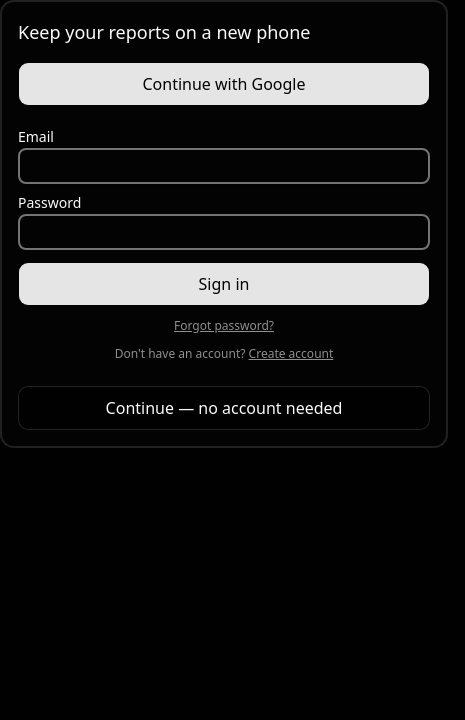
Test: SignInPanel › password sign-in › refuses a partial mobile number before any account is made
This screenshot has width=465, height=720.
Click the button "Create account" at (291,354), box [249,346,333,362]
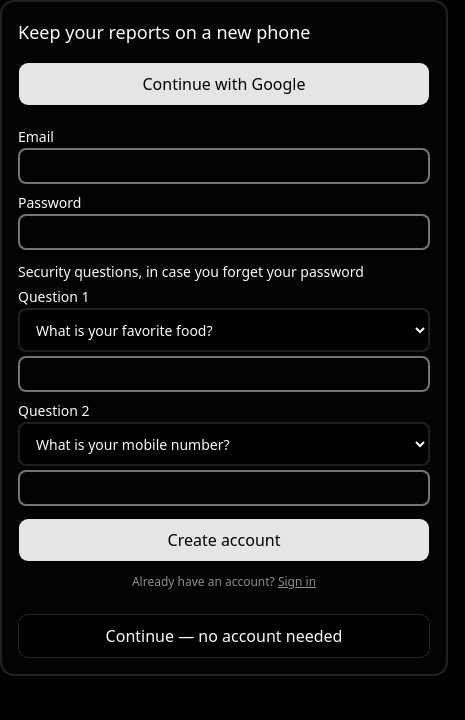
Type "new@example.com" into the field labelled "Email" at (224,166), box [18,148,430,184]
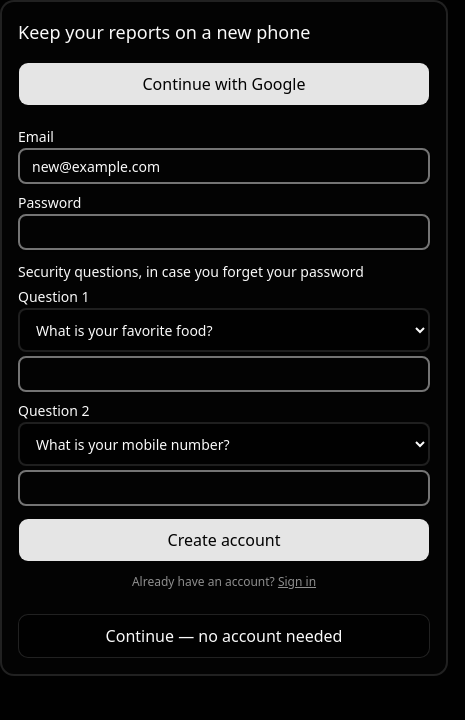
Type "hunter2222" into the password field labelled "Password" at (224,232), box [18,214,430,250]
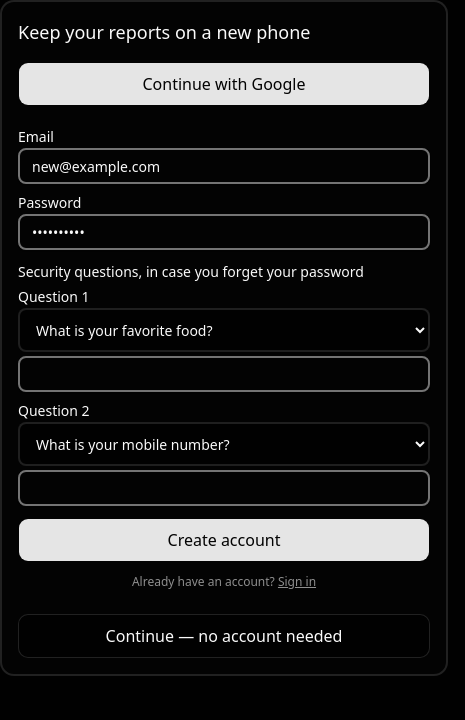
Type "adobo" into the field named "Answer 1" below "Question 1" at (224,374), box [18,356,430,392]
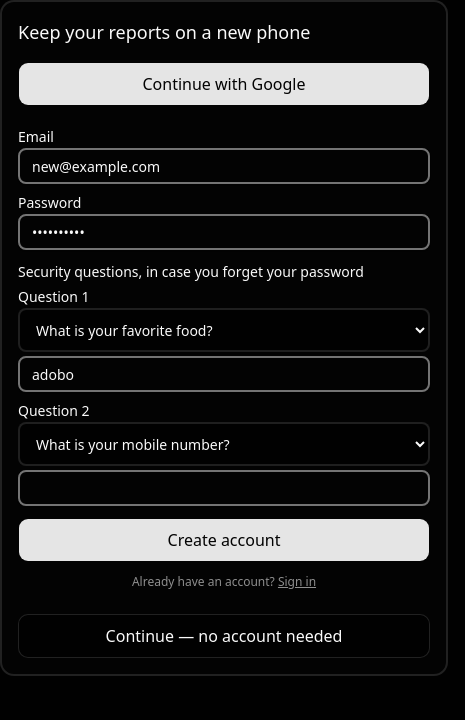
Type "0917" into the field named "Answer 2" below "Question 2" at (224,488), box [18,470,430,506]
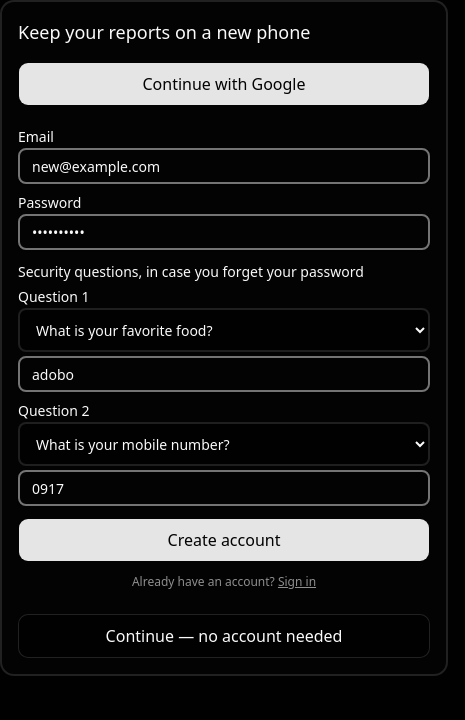
Click the button "Create account" at (224,540), box [18,518,430,562]
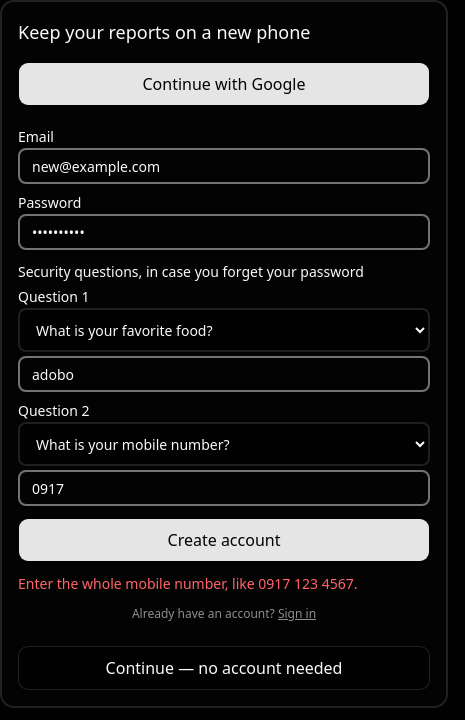
Check: the text "Enter the whole mobile number, like 0917 123 4567." is shown, box [18,574,358,593]
